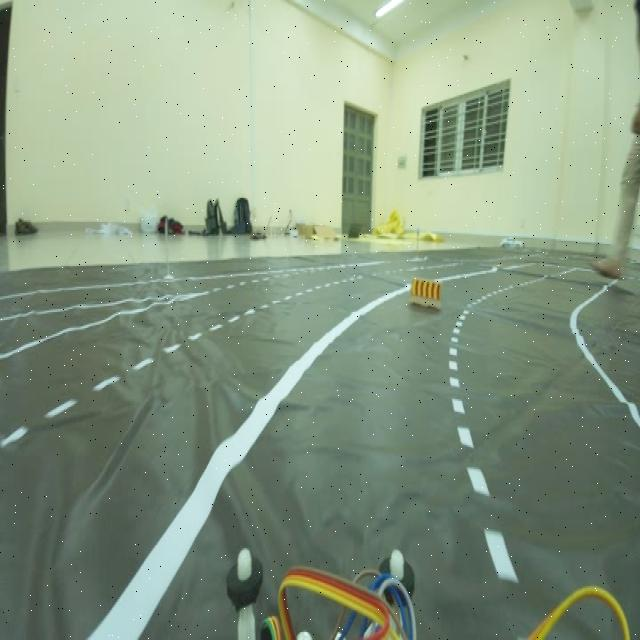roadblock: (407, 269, 448, 312)
